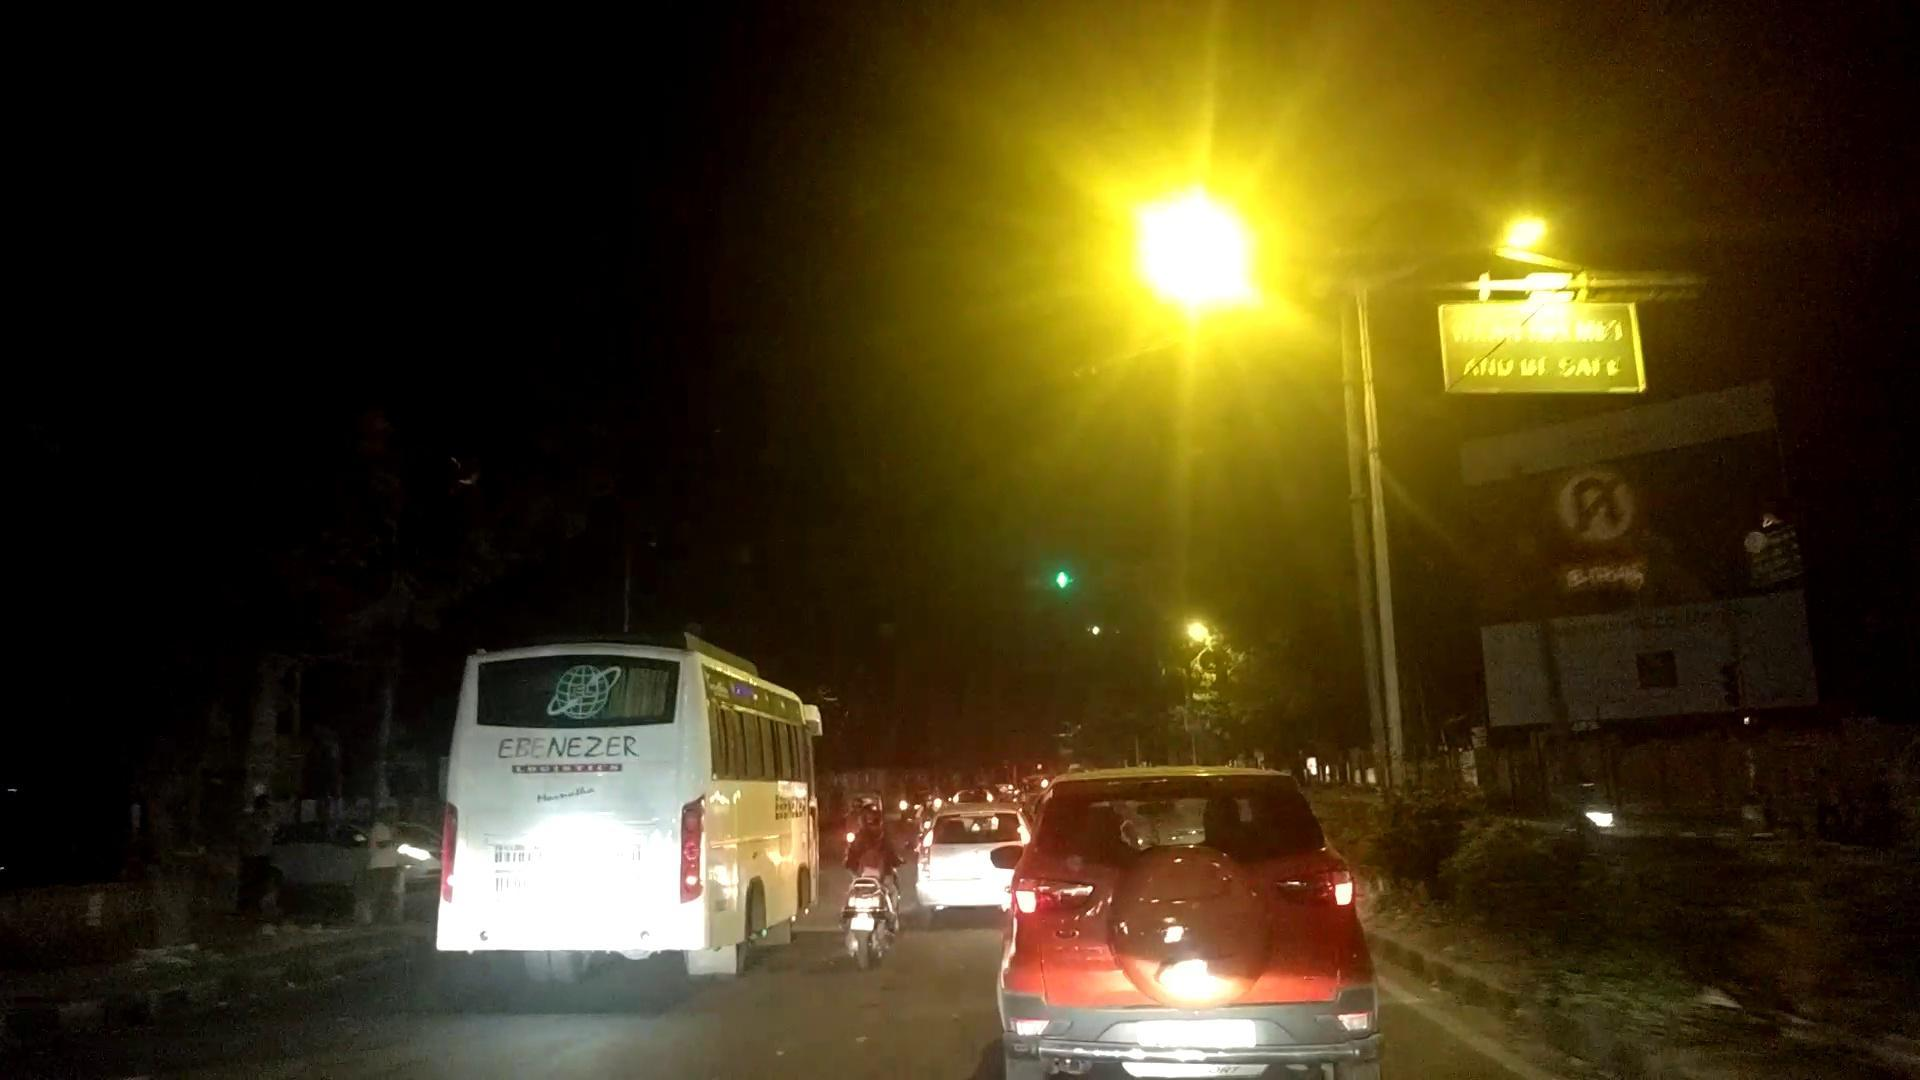on: (390, 3, 1920, 1080)
